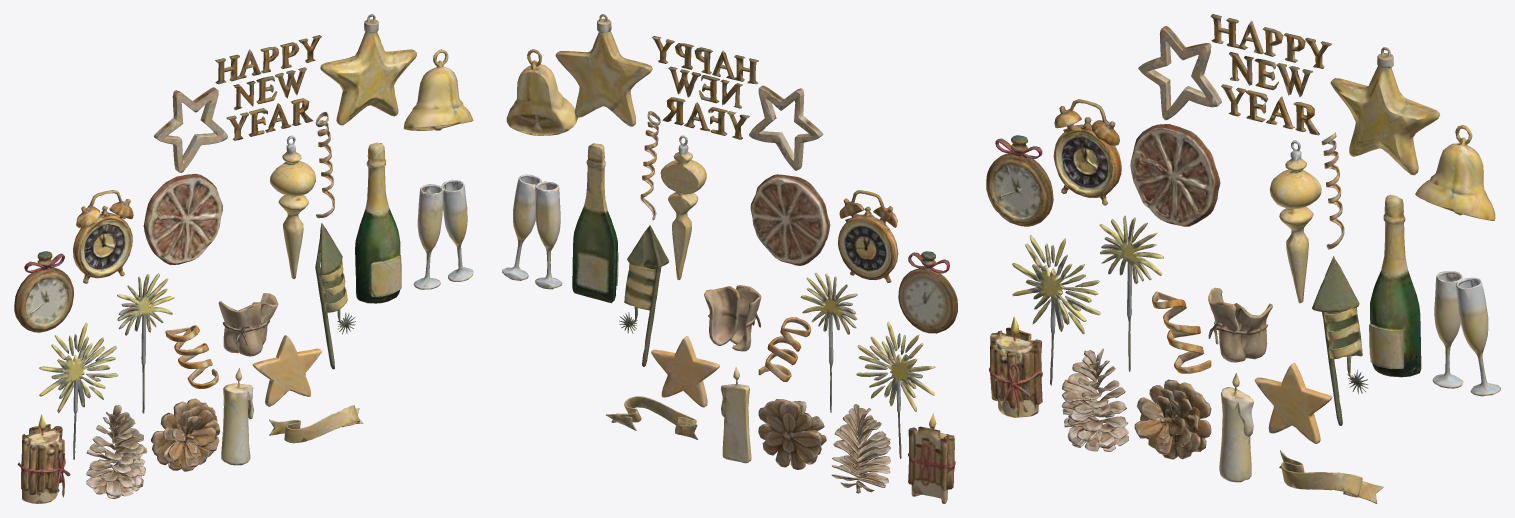
3 renders of one model, left to right at view 1: azimuth 30°, elevation 25°; view 2: azimuth 150°, elevation 25°; view 3: azimuth 330°, elevation 25°, orthographic. The views are drawn at different scales.
Visible parts, largest first — view 1: Mesh 25, Mesh 54, Mesh 51, Mesh 46, Mesh 9, Mesh 15, Mesh 26, Mesh 63, Mesh 2, Mesh 3, Mesh 14, Mesh 58 (+10 smaller); view 2: Mesh 25, Mesh 54, Mesh 51, Mesh 46, Mesh 9, Mesh 58, Mesh 63, Mesh 26, Mesh 2, Mesh 15, Mesh 3, Mesh 14 (+10 smaller); view 3: Mesh 25, Mesh 54, Mesh 51, Mesh 46, Mesh 9, Mesh 15, Mesh 26, Mesh 63, Mesh 2, Mesh 3, Mesh 58, Mesh 48 (+10 smaller).
Part boxes in pixels (box(x1,y1,x2,y2)): Mesh 25: box(143, 173, 222, 265); Mesh 54: box(355, 142, 401, 303); Mesh 51: box(320, 14, 416, 125); Mesh 46: box(215, 35, 321, 140); Mesh 9: box(73, 190, 133, 283); Mesh 15: box(86, 405, 147, 498); Mesh 26: box(151, 398, 220, 471); Mesh 63: box(413, 179, 473, 289); Mesh 2: box(14, 251, 73, 332); Mesh 3: box(17, 414, 70, 503); Mesh 14: box(39, 322, 118, 459); Mesh 58: box(403, 49, 473, 130); Mesh 25: box(750, 174, 830, 265); Mesh 54: box(572, 143, 618, 303); Mesh 51: box(555, 14, 652, 126); Mesh 46: box(652, 36, 758, 139); Mesh 9: box(838, 190, 898, 282); Mesh 58: box(506, 49, 577, 135); Mesh 63: box(502, 174, 562, 289); Mesh 26: box(758, 399, 826, 469); Mesh 2: box(898, 251, 957, 333); Mesh 15: box(831, 404, 890, 493); Mesh 3: box(908, 413, 955, 503); Mesh 14: box(856, 322, 935, 458); Mesh 25: box(1130, 124, 1220, 226); Mesh 54: box(1369, 194, 1421, 377); Mesh 51: box(1330, 47, 1439, 175); Mesh 46: box(1210, 14, 1331, 135); Mesh 9: box(1053, 99, 1121, 205); Mesh 15: box(1061, 348, 1128, 451); Mesh 26: box(1134, 379, 1211, 459); Mesh 63: box(1432, 271, 1500, 396); Mesh 2: box(986, 135, 1053, 226); Mesh 3: box(989, 316, 1042, 417); Mesh 58: box(1415, 125, 1495, 220); Mesh 48: box(1312, 256, 1368, 425).
Size of the model in its own units: 1.65 by 1.44 by 0.131.
22 materials, 22 textured.
